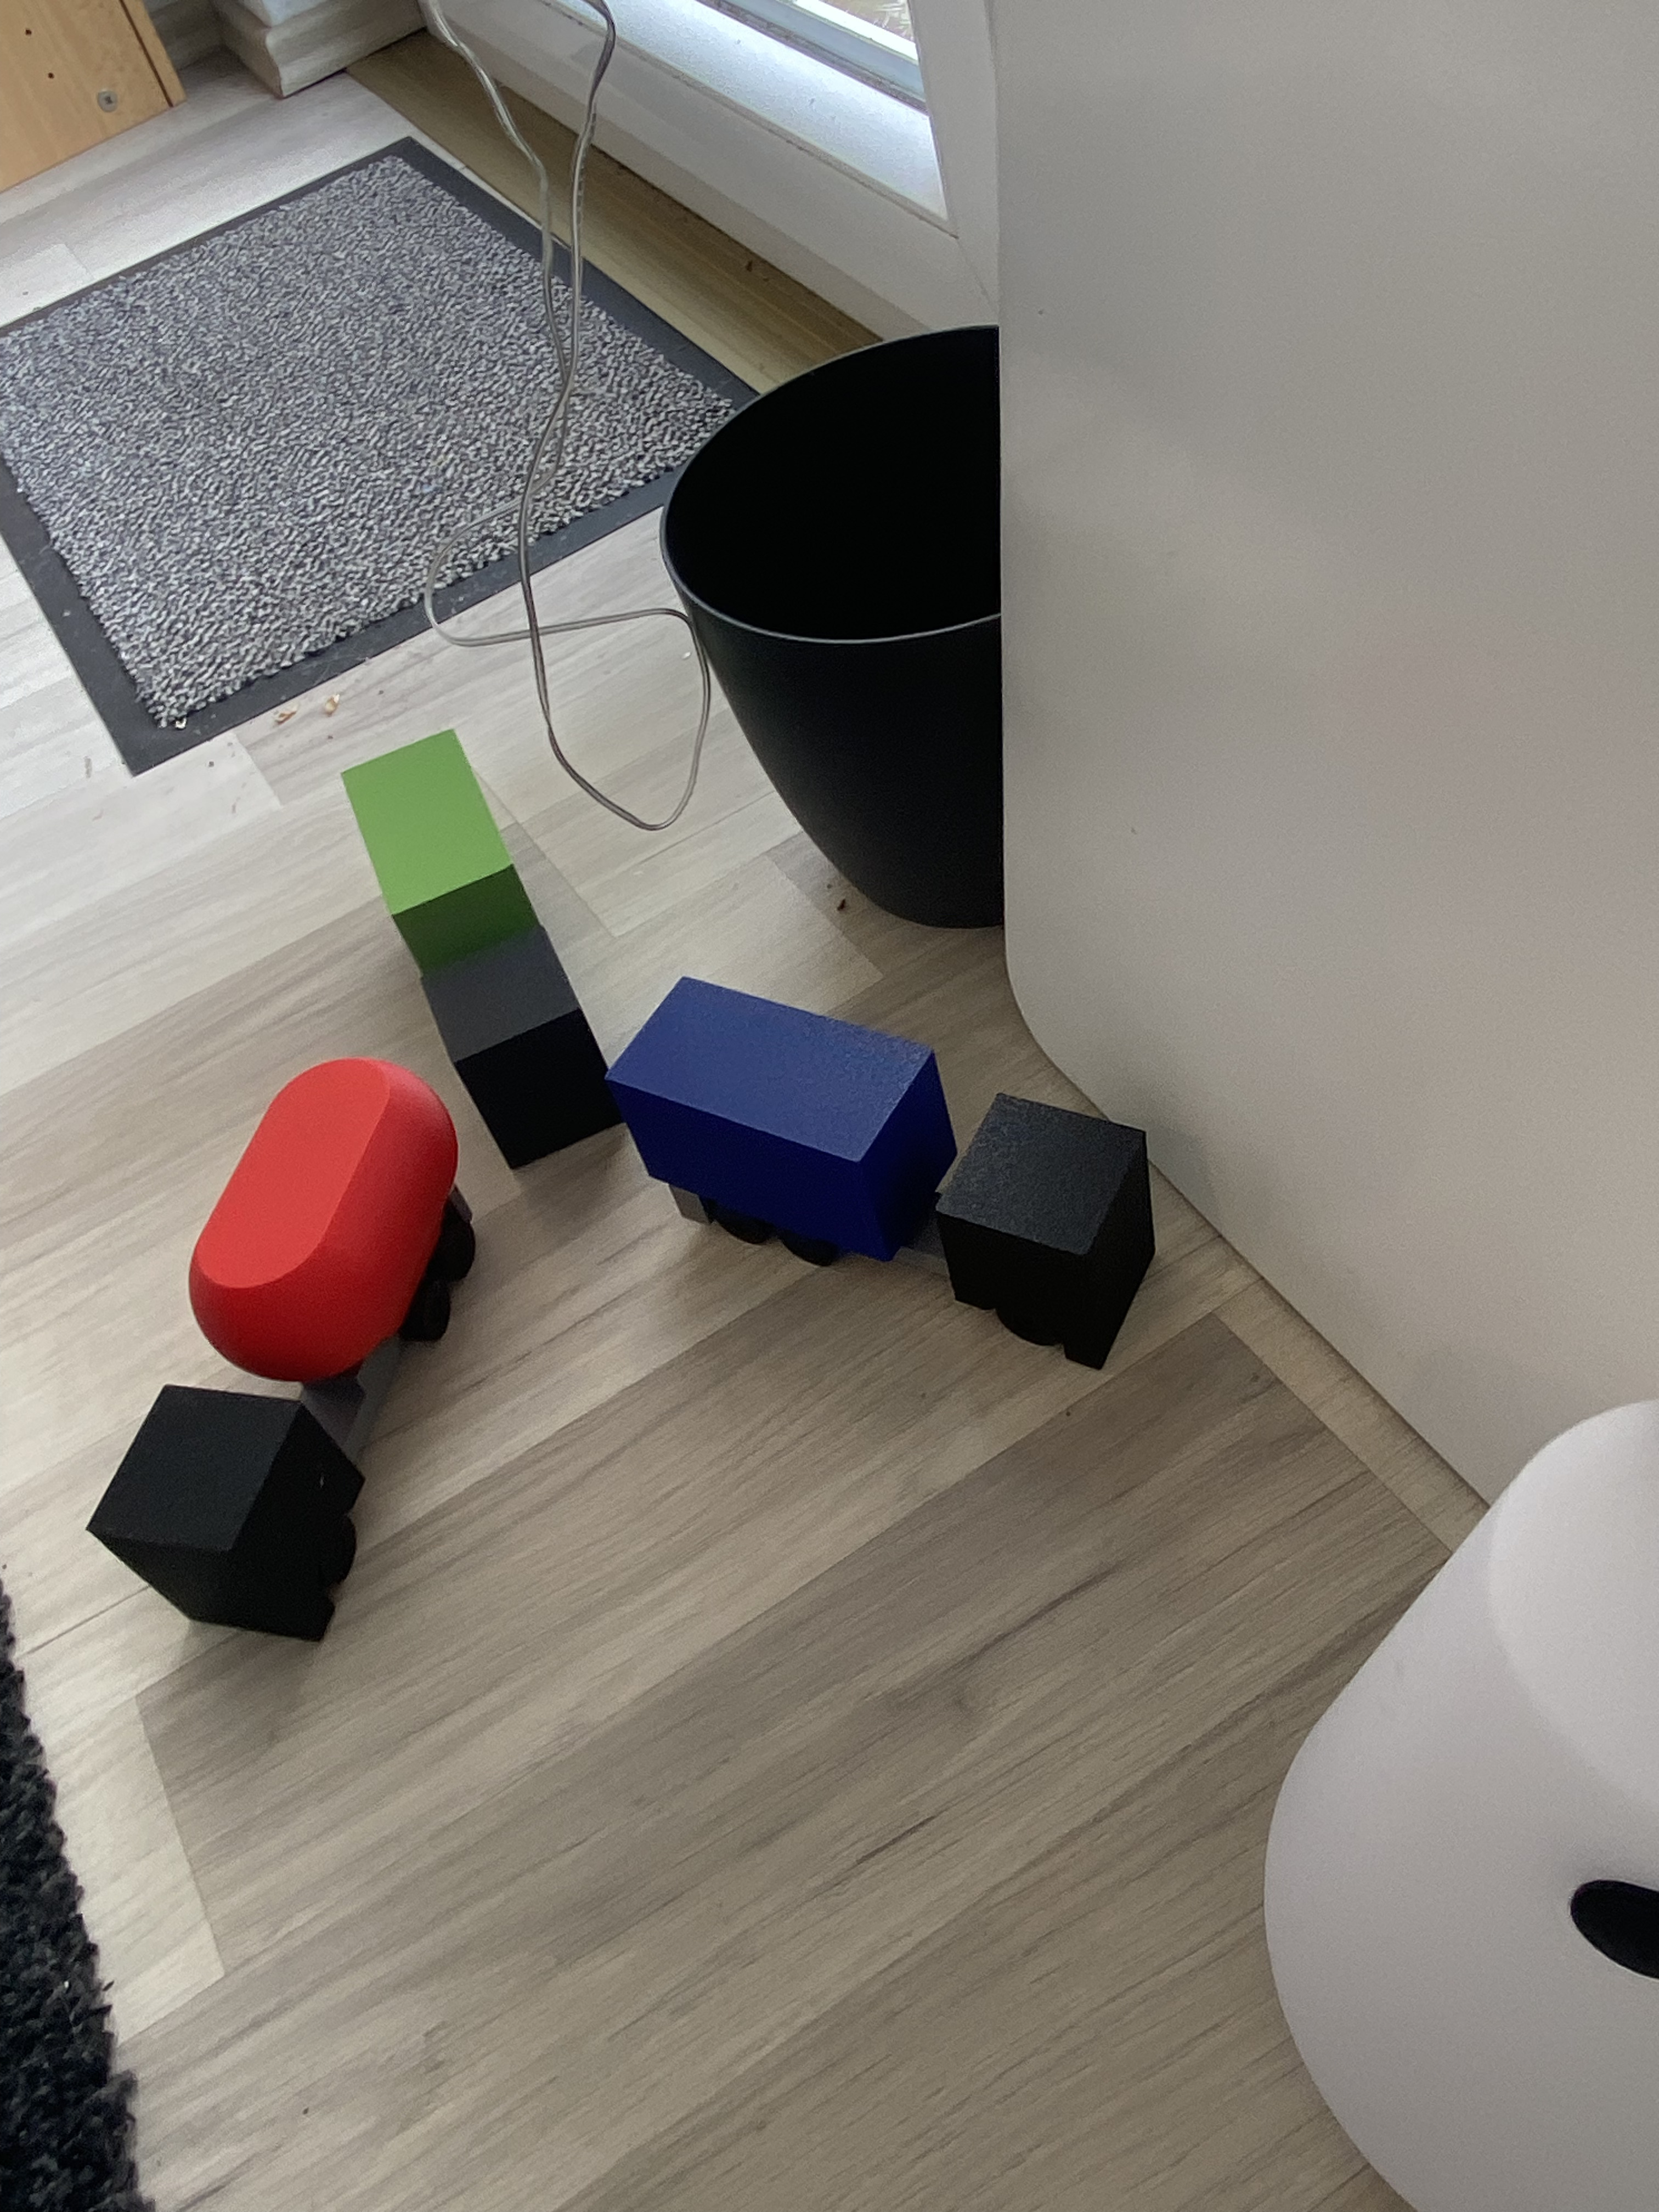blue_truck: (763, 869, 1016, 1456)
green_truck: (254, 880, 701, 1035)
red_truck: (150, 1045, 418, 1665)
